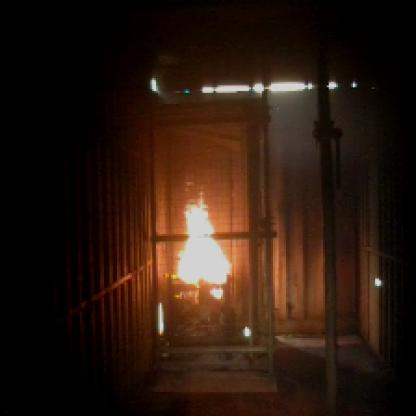Fire: (178, 197, 240, 299)
